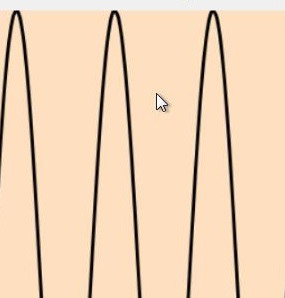cursor: (153, 91, 170, 113)
